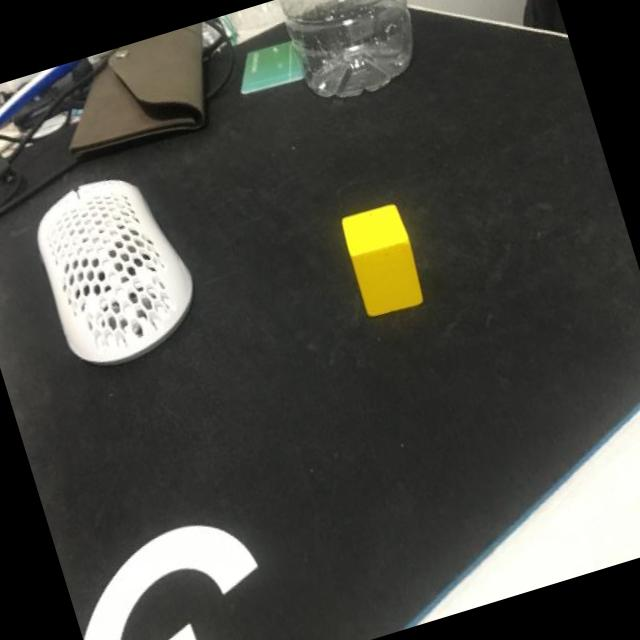yellow: (338, 200, 428, 320)
